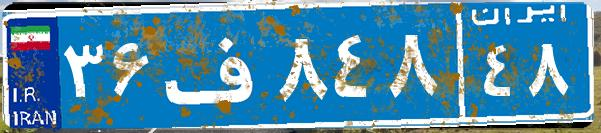3: (57, 26, 110, 107)
4: (330, 28, 385, 110), (475, 38, 525, 113)
6: (110, 28, 158, 105)
8: (385, 28, 445, 110), (273, 28, 330, 110), (525, 38, 570, 115)
ف: (158, 15, 273, 115)
